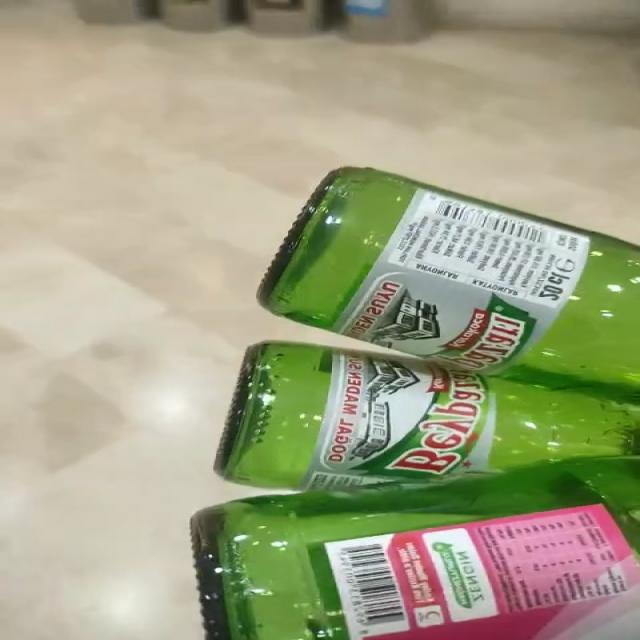glass: (191, 167, 640, 640)
